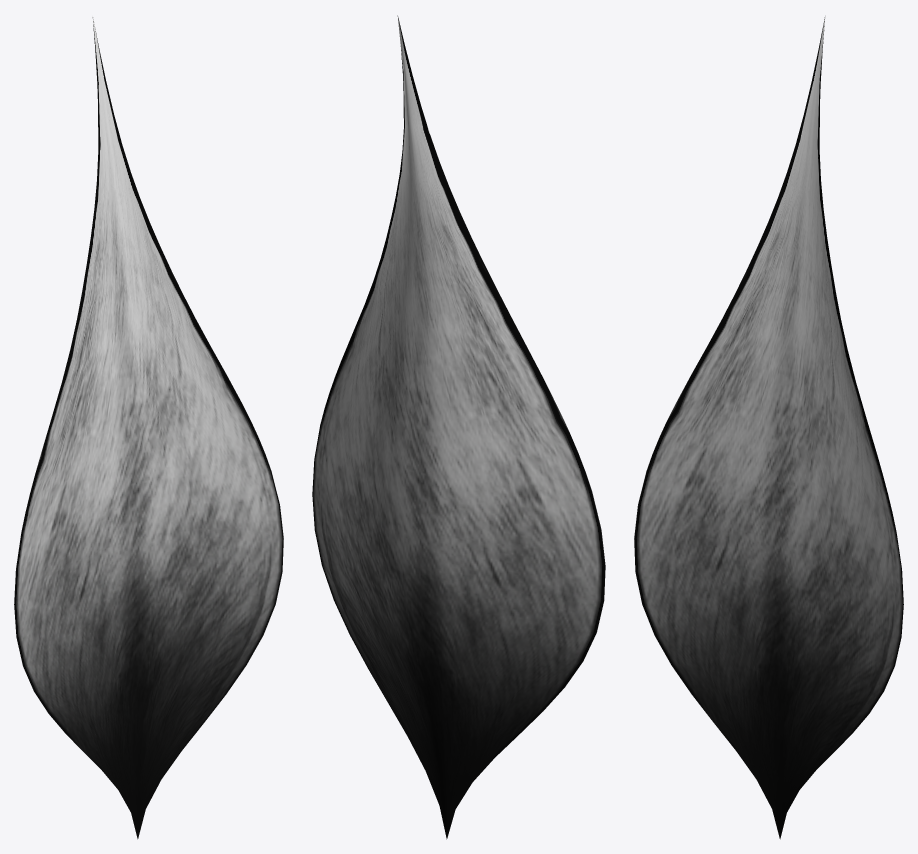
Rendered from petal.obj.
The picture shows the model from 3 angles, left to right: view 1: azimuth 30°, elevation 25°; view 2: azimuth 150°, elevation 25°; view 3: azimuth 330°, elevation 25°; orthographic projection. The views are drawn at different scales.
Visible parts, largest first — view 1: object_1; view 2: object_1; view 3: object_1.
Boxes of the visible parts, x1,y1,x2,y2 form: object_1: [14, 16, 283, 839]; object_1: [312, 15, 605, 839]; object_1: [634, 16, 903, 839].
Size of the model in its own units: 1.79 by 5.02 by 0.6542.
Materials: 1 (1 with a texture image).
